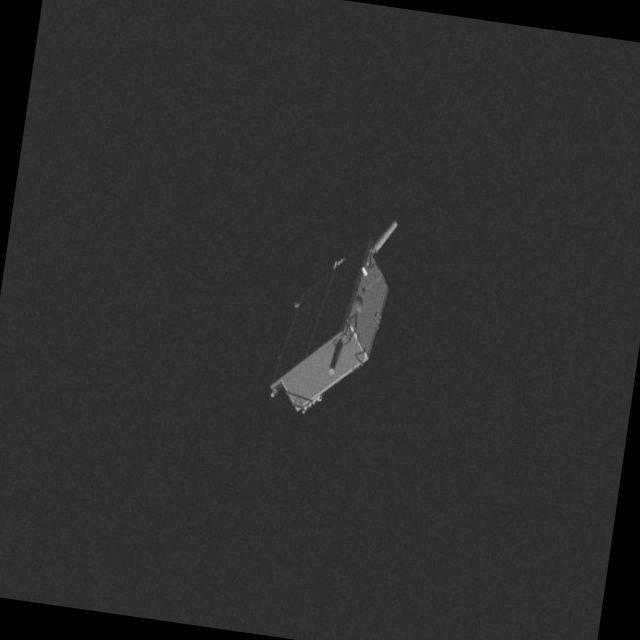medium_debris: (254, 196, 400, 434)
